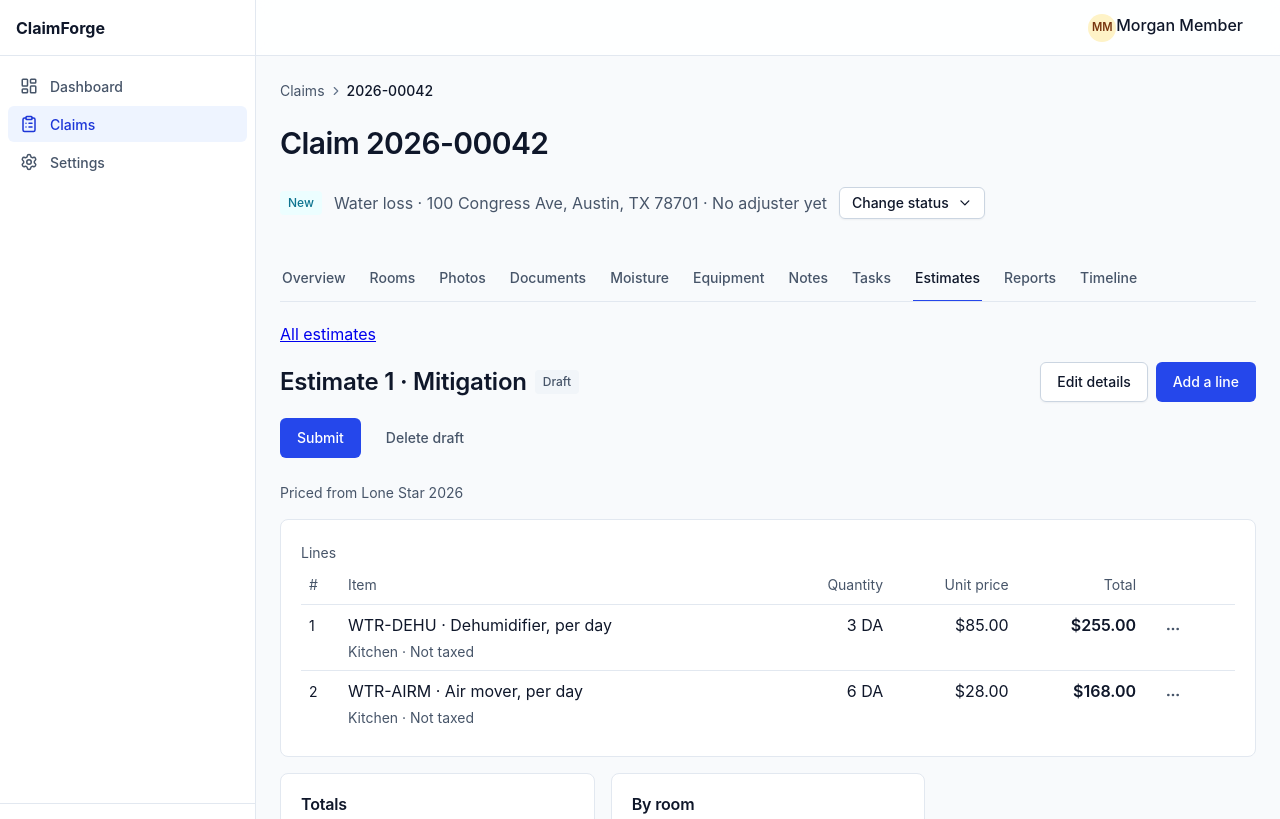
Test case: moving an estimate along › a draft is submitted, and then can be withdrawn, approved or rejected
This screenshot has width=1280, height=819.
Click the button "Submit" at {"x": 320, "y": 438}, box [280,418,361,458]
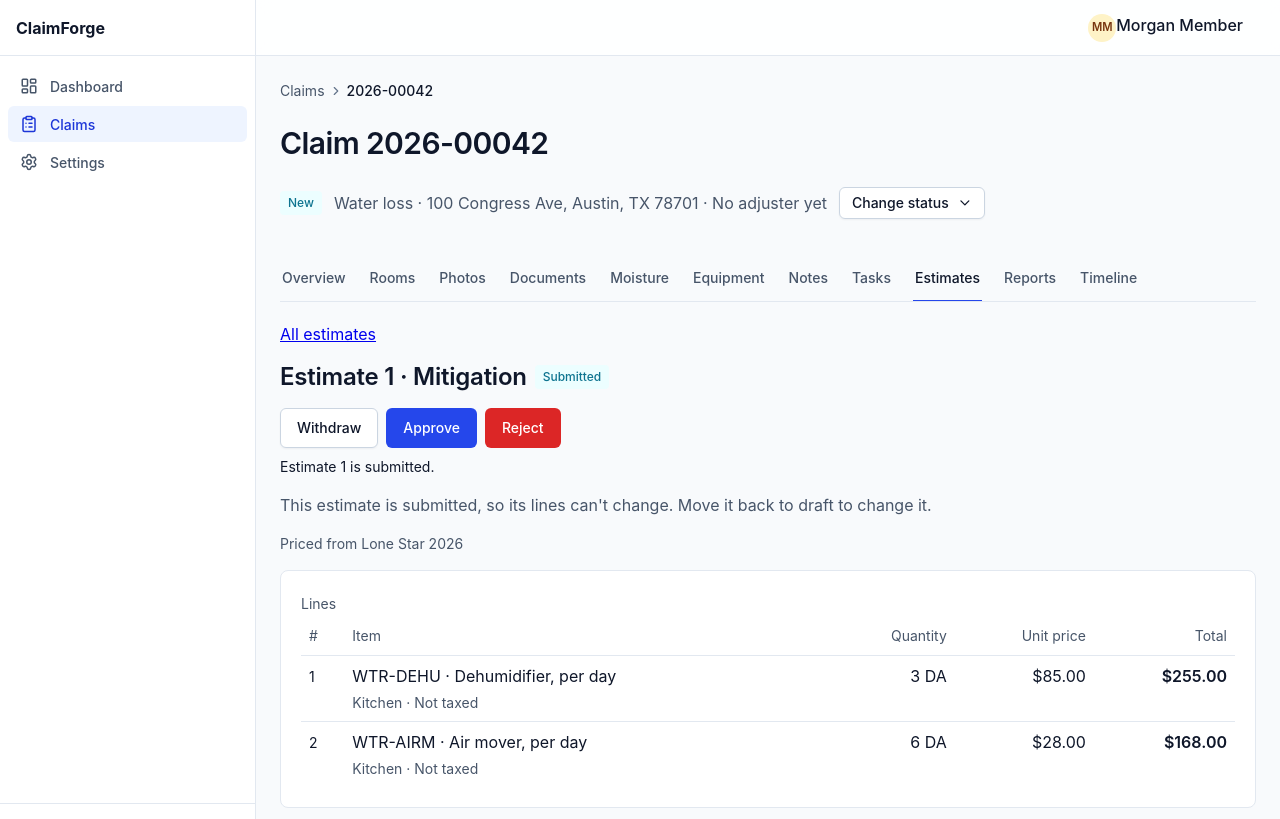
Check: the text "Estimate 1 is submitted." is shown, box [280,458,434,474]
